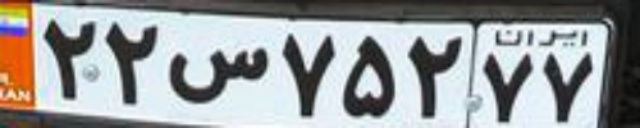2: (406, 34, 465, 118), (103, 19, 158, 105), (43, 19, 93, 101)
5: (343, 34, 395, 119)
7: (278, 31, 336, 117), (539, 49, 596, 123), (481, 50, 534, 122)
sin: (168, 45, 269, 104)
